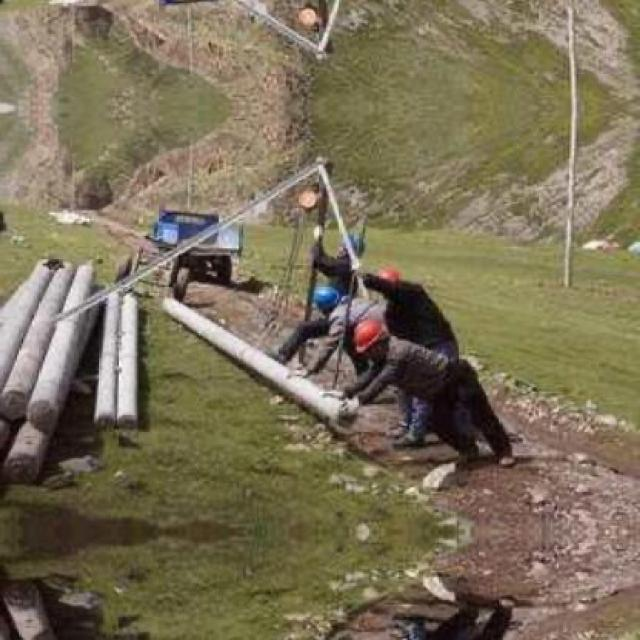con casco: (349, 303, 399, 367)
